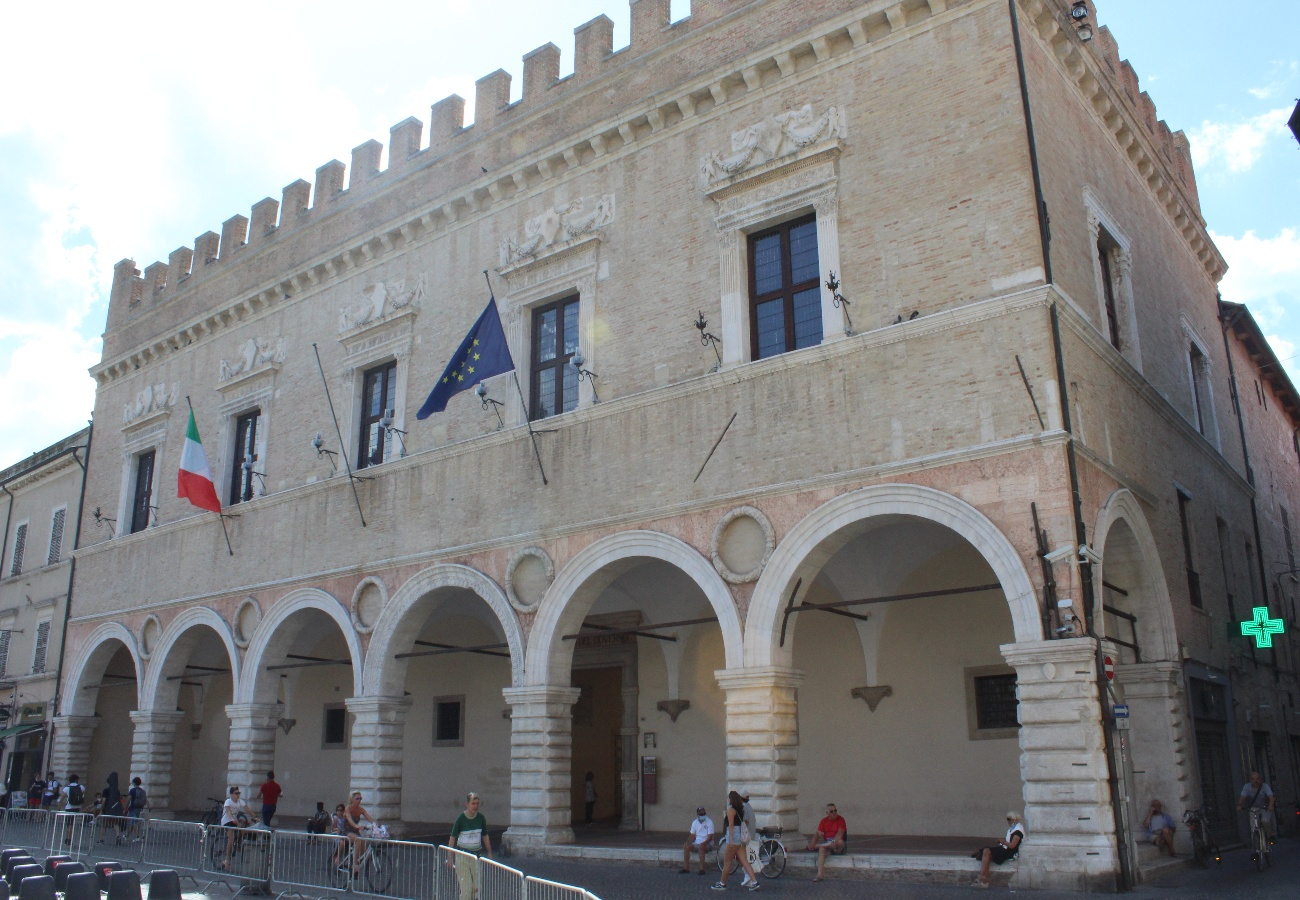Palazzo Ducale: (83, 1, 1100, 884)
